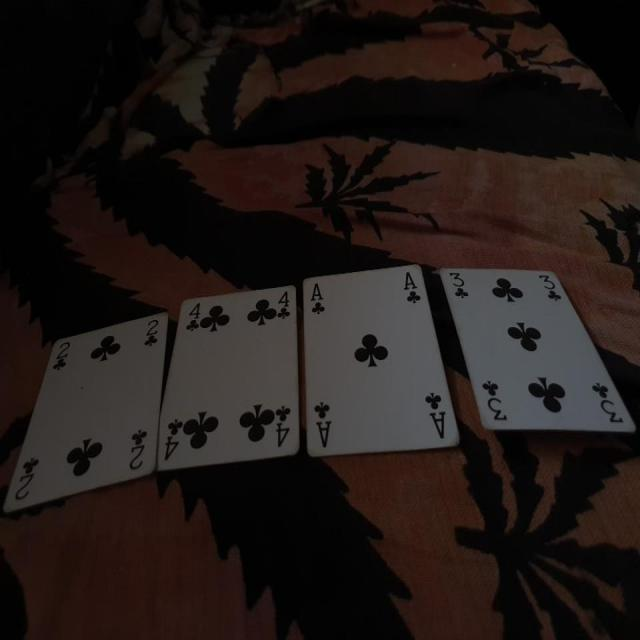2 Trefoils: (1, 310, 169, 518)
3 Trefoils: (440, 264, 636, 435)
4 Trefoils: (159, 284, 301, 470)
A Trefoils: (300, 261, 462, 458)
